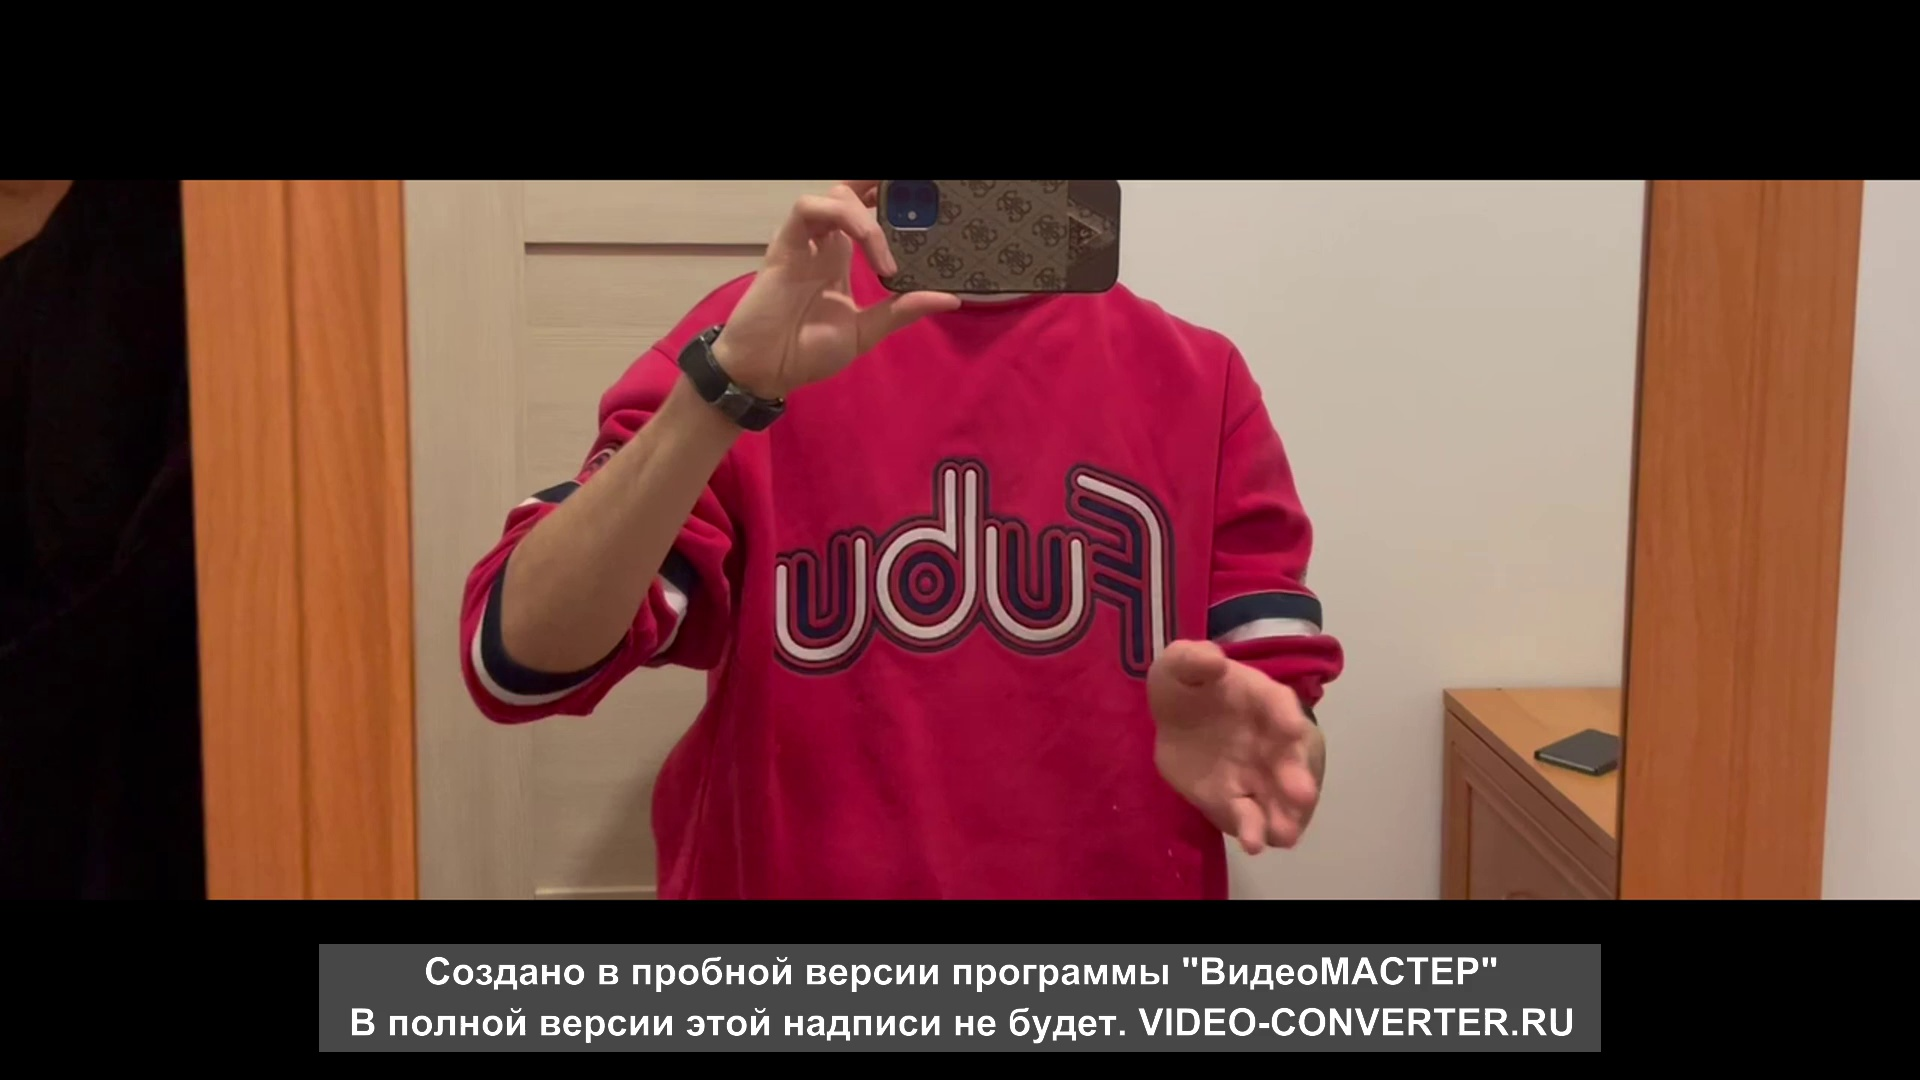Ладонь: (1149, 637, 1317, 855)
